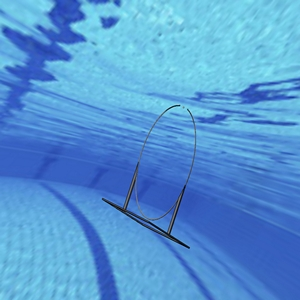circle: (102, 103, 198, 248)
